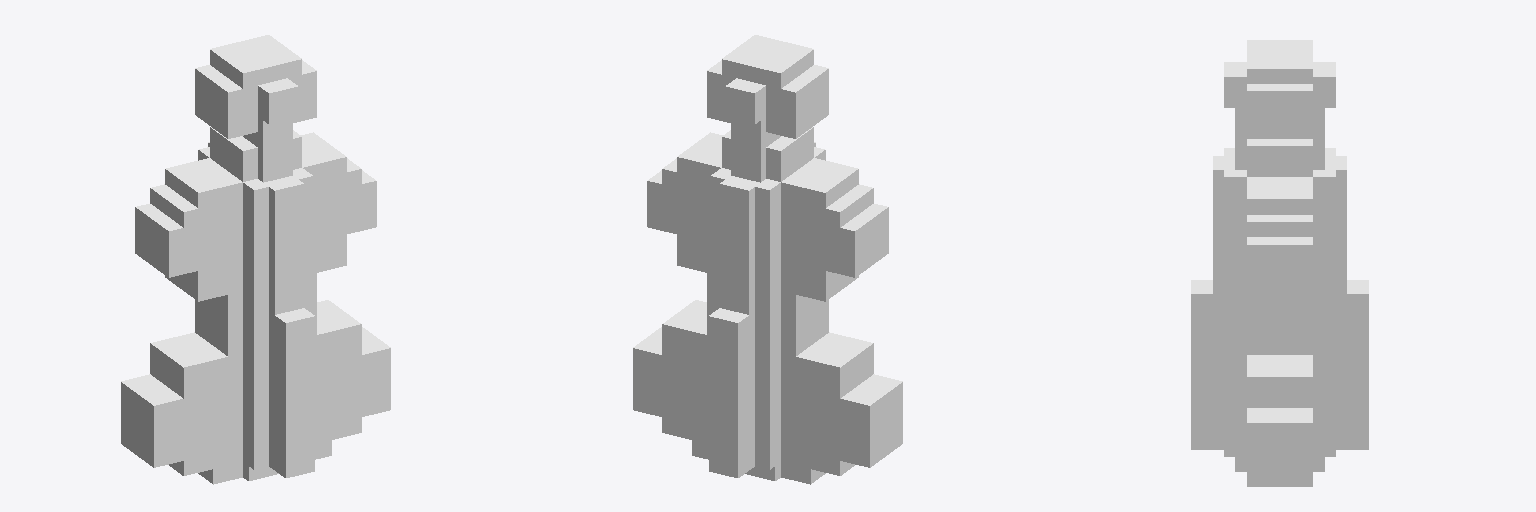
File: LeachShip.obj
The picture shows the model from 3 angles: view 1: azimuth 30°, elevation 25°; view 2: azimuth 150°, elevation 25°; view 3: azimuth 270°, elevation 25°; orthographic projection.
Size of the model in its own units: 16 by 26 by 10.4.